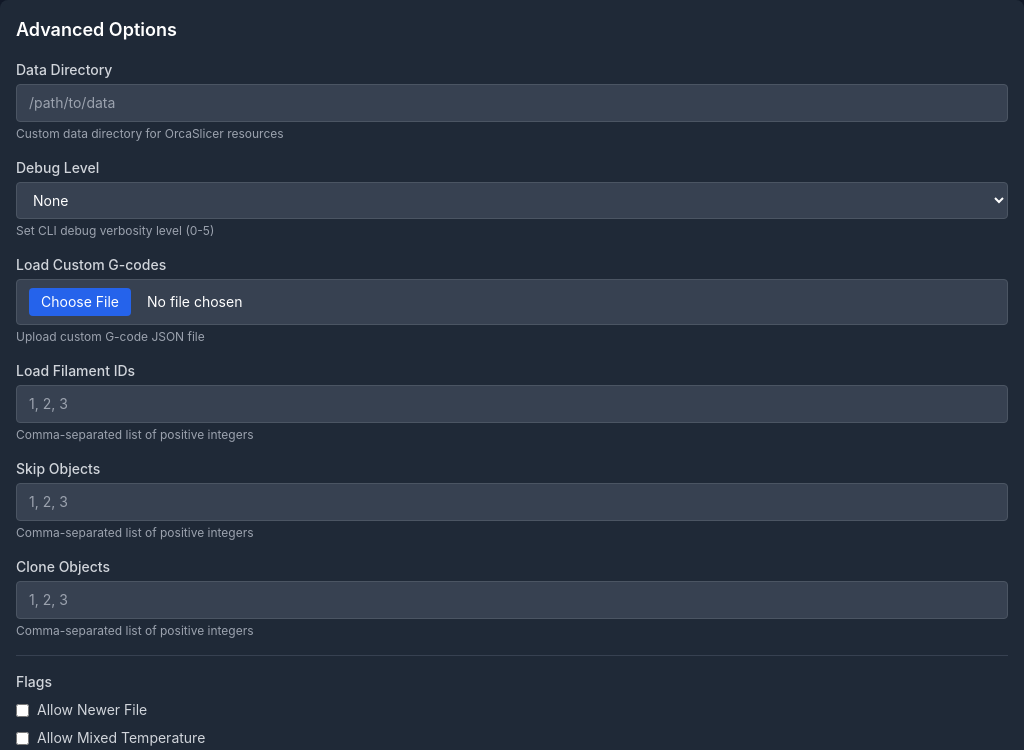
Test case: AdvancedPanel › rejects zero and negative integers in skip_objects
// Enter zero
Type "0, 1" into the field labelled "Skip Objects".
click(512, 502); type("0, 1")  # box x1=16 y1=483 x2=1008 y2=521
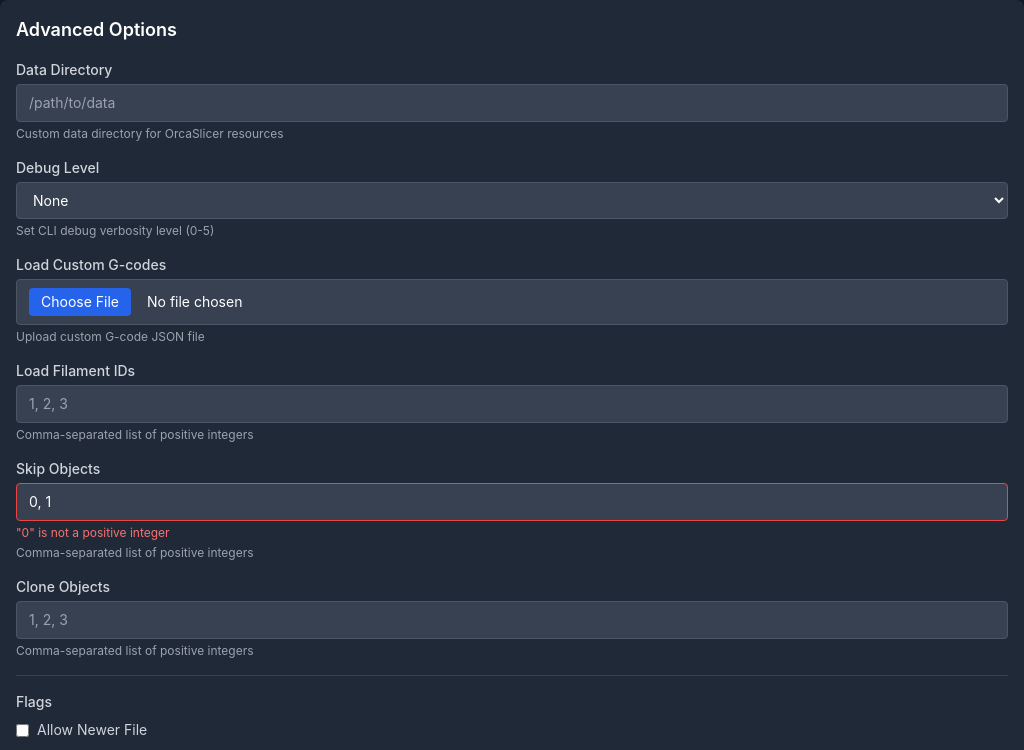
Expected: the text "\"0\" is not a positive integer" is shown, x1=16 y1=525 x2=170 y2=540
// Enter negative
Replace the text in the field labelled "Skip Objects" with "-1, 2" at (512, 502), box x1=16 y1=483 x2=1008 y2=521
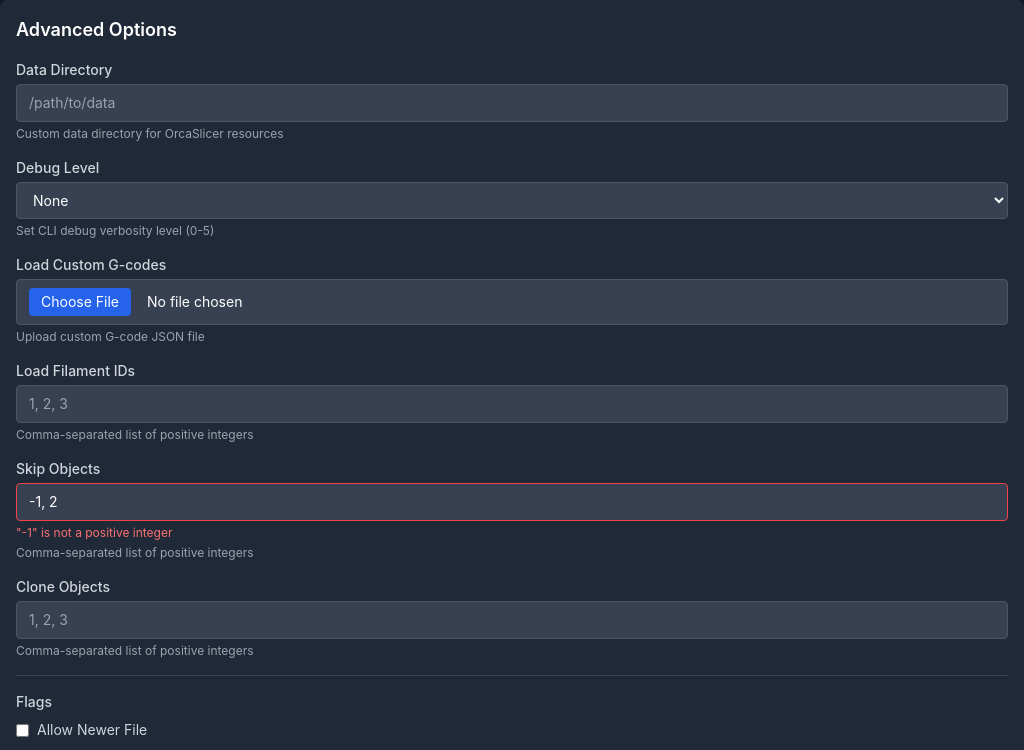
Expected: the text "\"-1\" is not a positive integer" is shown, x1=16 y1=525 x2=172 y2=540
